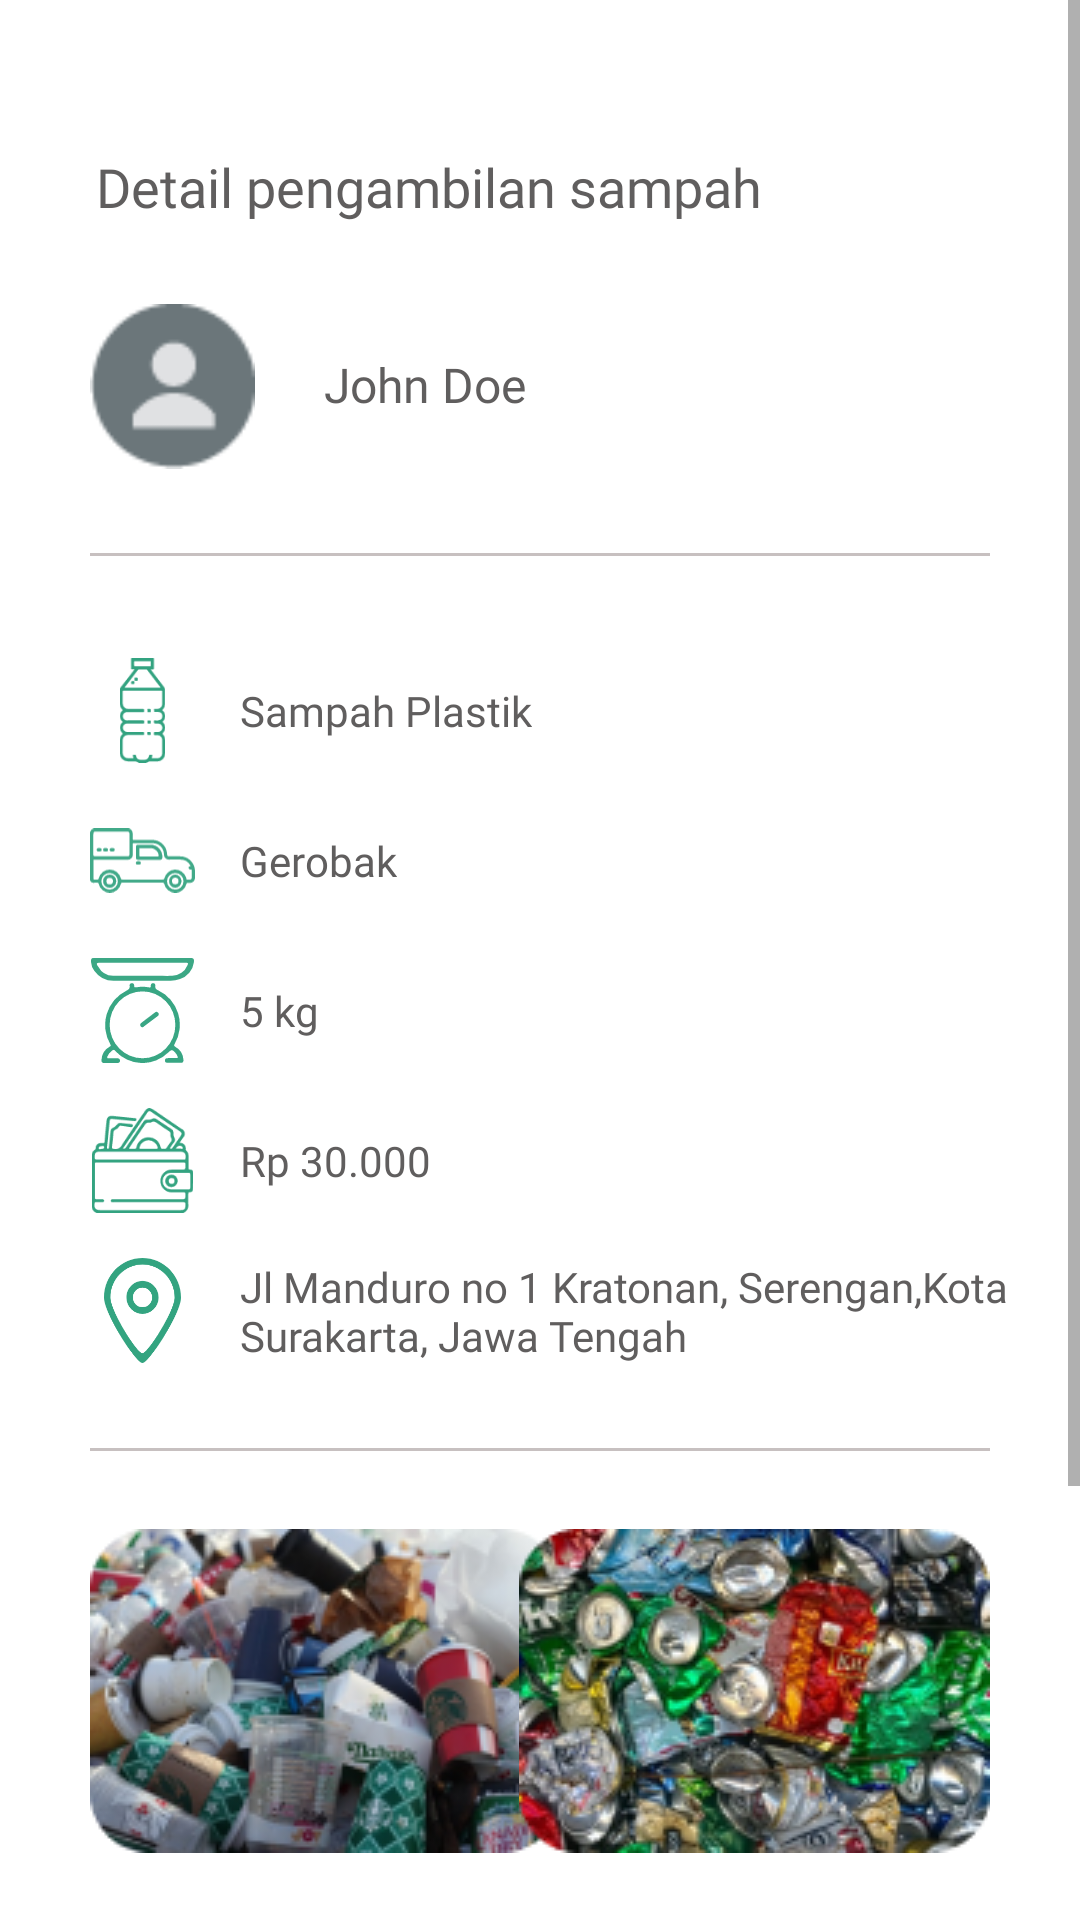

Icon bounding boxes for this 1080 x 1920 phone screenshot, format (x1=x1, y1=y1, x2=x2, y2=y2):
lokasi: (x1=104, y1=1258, x2=181, y2=1363)
pickup: (x1=90, y1=828, x2=195, y2=893)
timbangan: (x1=91, y1=958, x2=194, y2=1063)
wallet: (x1=92, y1=1108, x2=193, y2=1213)
